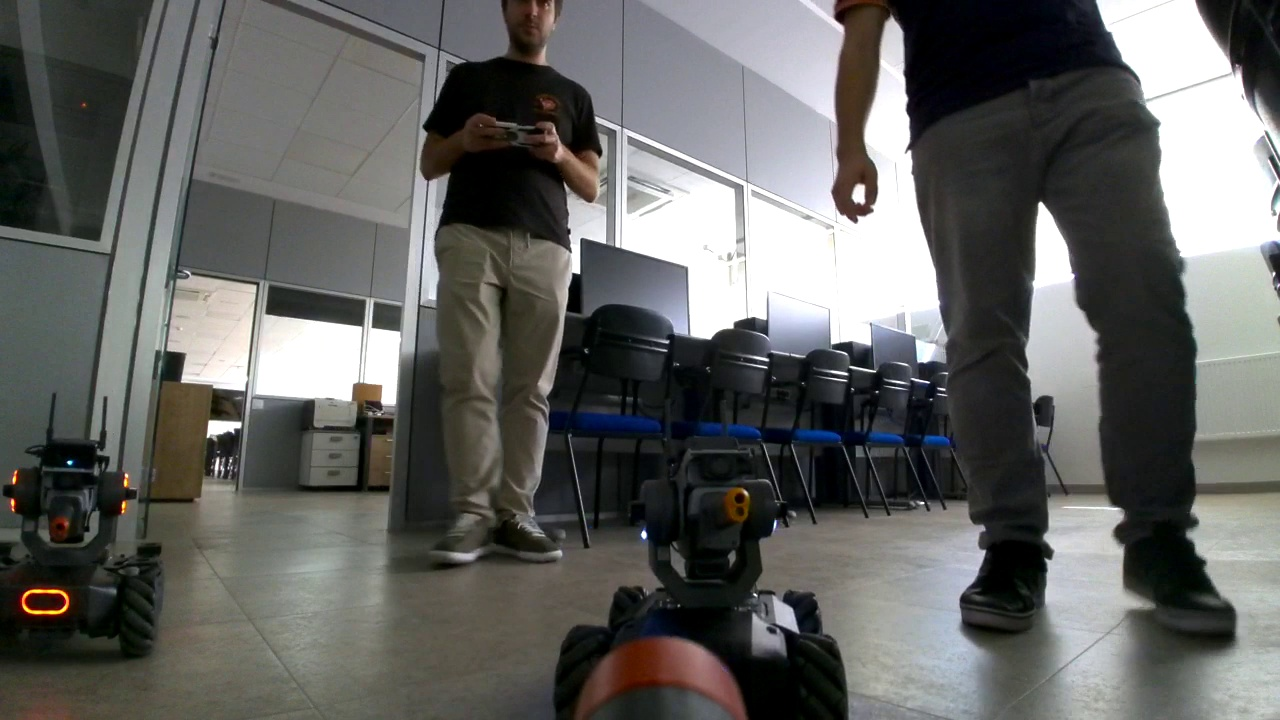robot: (564, 428, 846, 720), (1, 438, 171, 655)
